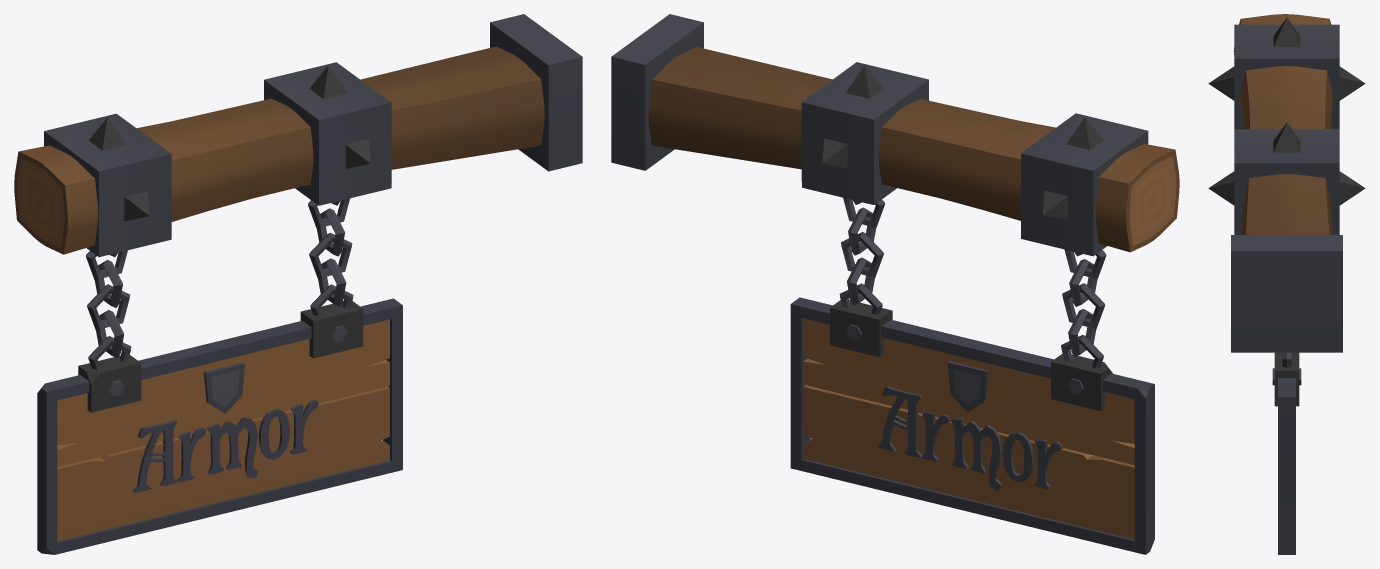
Rendered from SignBoard_03.glb.
3 renders of one model, left to right at view 1: azimuth 30°, elevation 25°; view 2: azimuth 150°, elevation 25°; view 3: azimuth 270°, elevation 25°, orthographic. The views are drawn at different scales.
Parts seen in each view (by area): view 1: SignBoard_03_LOD0; view 2: SignBoard_03_LOD0; view 3: SignBoard_03_LOD0.
Boxes of the visible parts, left/top/right/bottom form: SignBoard_03_LOD0: left=14, top=14, right=582, bottom=554; SignBoard_03_LOD0: left=611, top=14, right=1179, bottom=554; SignBoard_03_LOD0: left=1208, top=14, right=1365, bottom=554.
Size of what is drawn, in the model's own units: 0.9475 by 0.7395 by 0.2628.
1 material, 1 textured.
